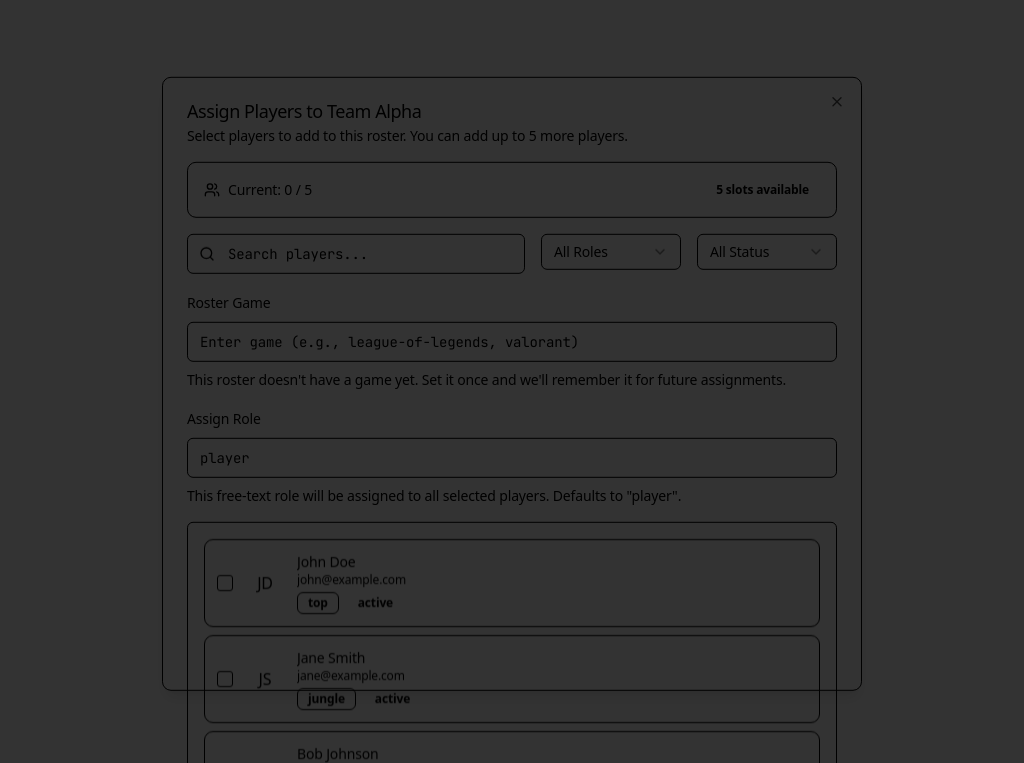
Test: PlayerAssignmentDialog › filters players by search term
This screenshot has width=1024, height=763.
In the field with placeholder "Search players...": (356, 254) [187,234,525,274], type "John"
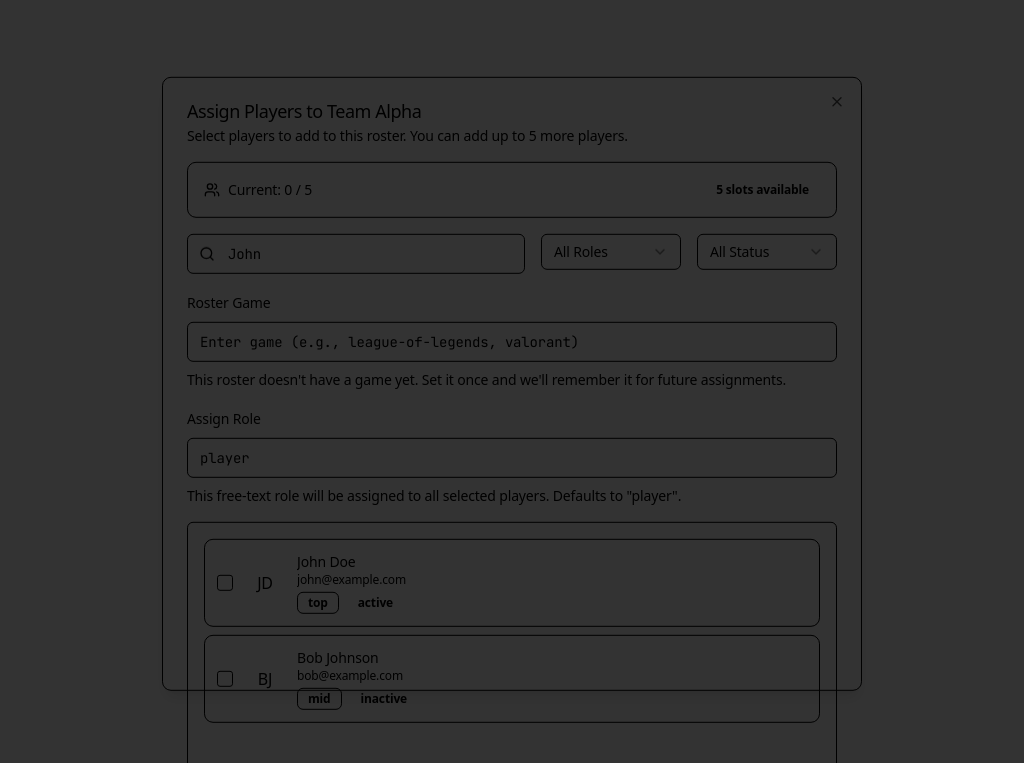
Expected: the text "John Doe" is shown, [297,552,356,571]
Result: the text "Jane Smith" is gone
